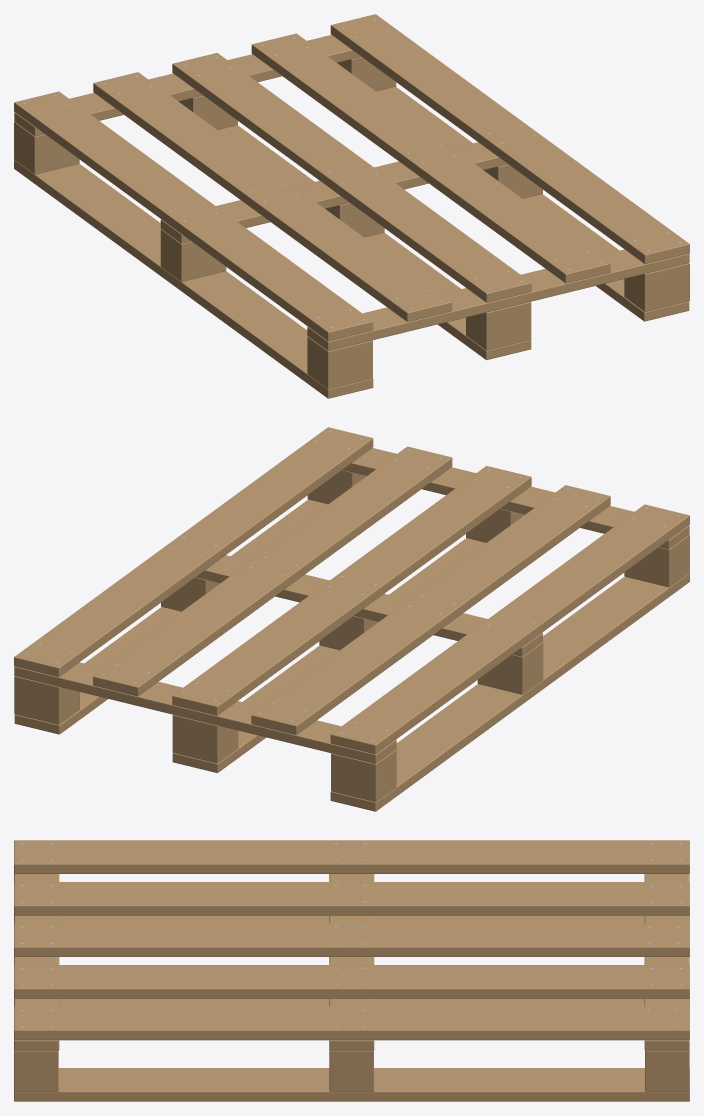
Rendered from pallet_block_a07.glb.
3 renders of one model, top to bottom at view 1: azimuth 30°, elevation 25°; view 2: azimuth 150°, elevation 25°; view 3: azimuth 270°, elevation 25°, orthographic. The views are drawn at different scales.
Size of the model in its own units: 0.7983 by 0.1408 by 1.2.
